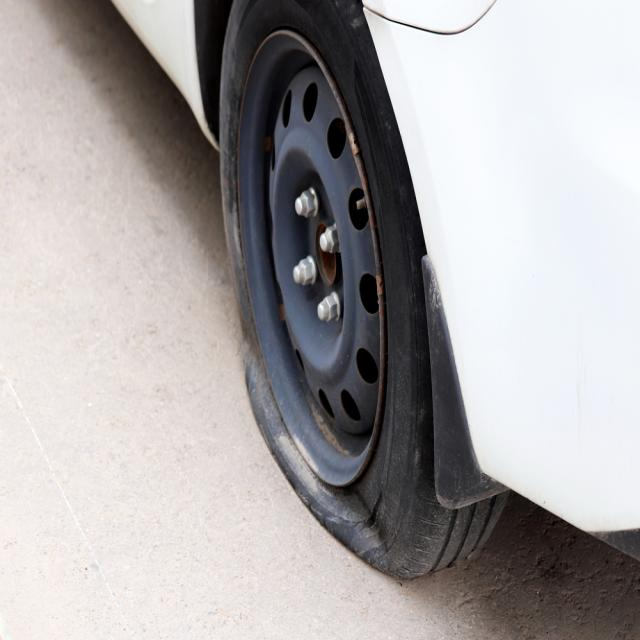tire flat: (220, 0, 509, 580)
